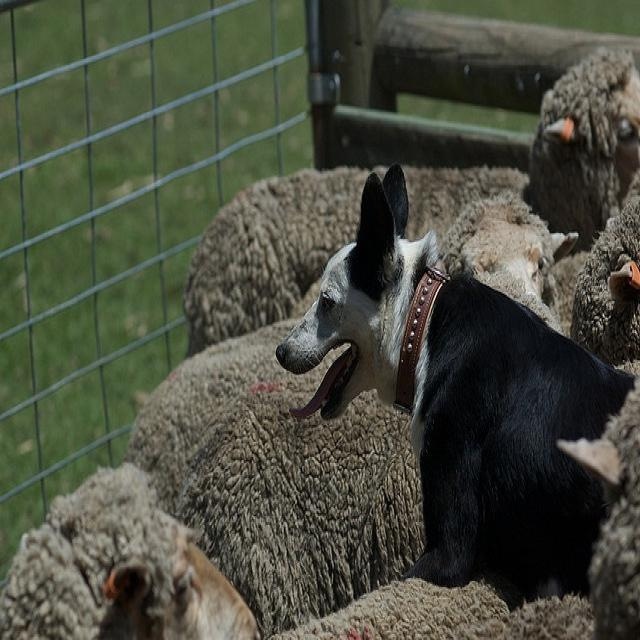dog: (276, 162, 632, 599)
